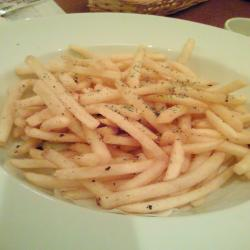fries: (22, 50, 235, 206)
